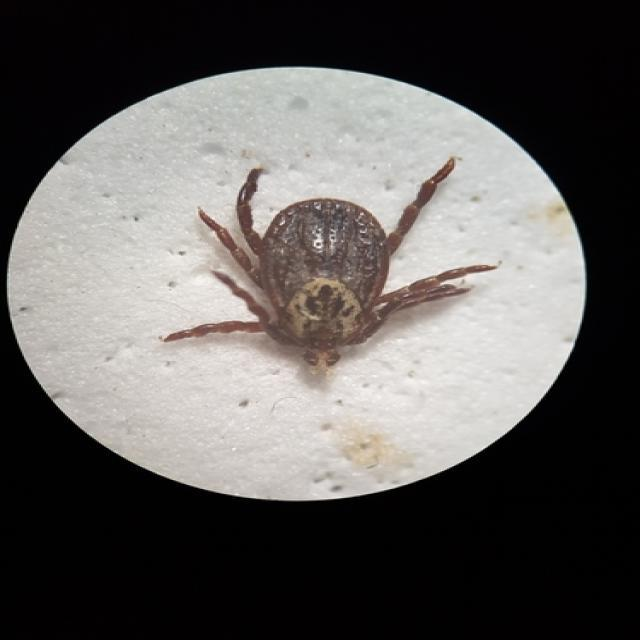Dermacentor Reticulatus-F: (164, 158, 494, 369)
